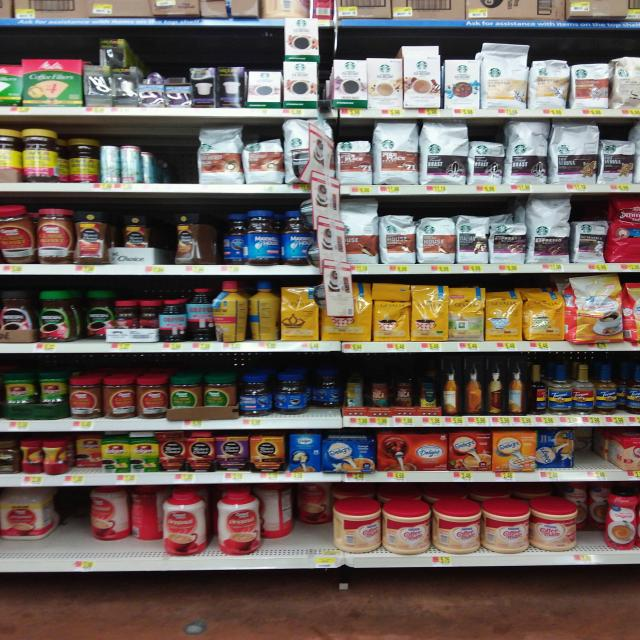empty: (47, 488, 89, 556), (157, 123, 194, 191)
